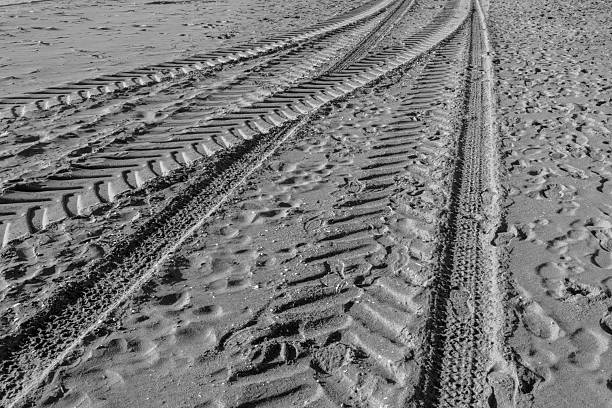vehicle_track: (0, 0, 469, 406), (0, 1, 468, 244), (174, 29, 466, 406), (219, 31, 466, 406), (0, 7, 387, 187), (0, 16, 381, 187), (0, 0, 393, 117), (422, 2, 517, 406)
